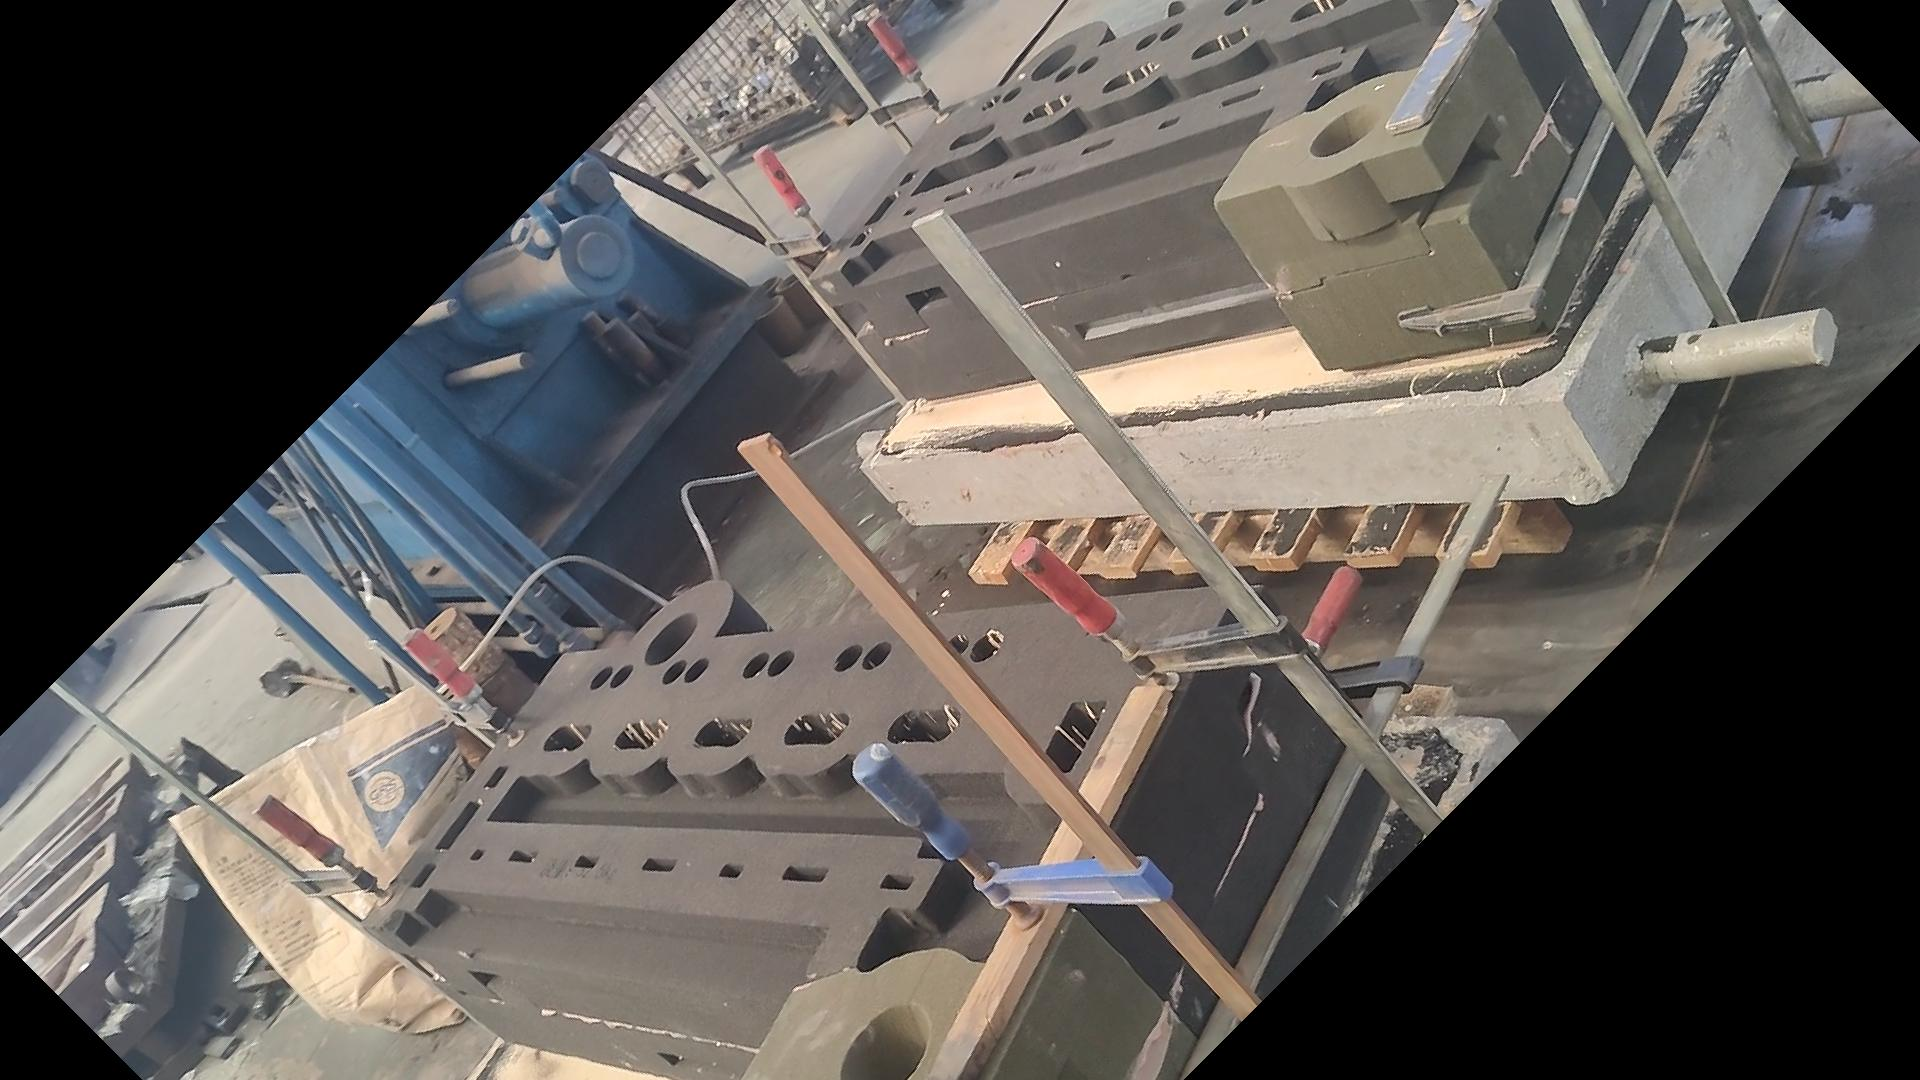pouring hole: (836, 1000, 931, 1080), (1309, 104, 1381, 158), (644, 612, 698, 666), (1030, 42, 1077, 82), (753, 295, 783, 318), (754, 274, 781, 291), (781, 273, 802, 291)
